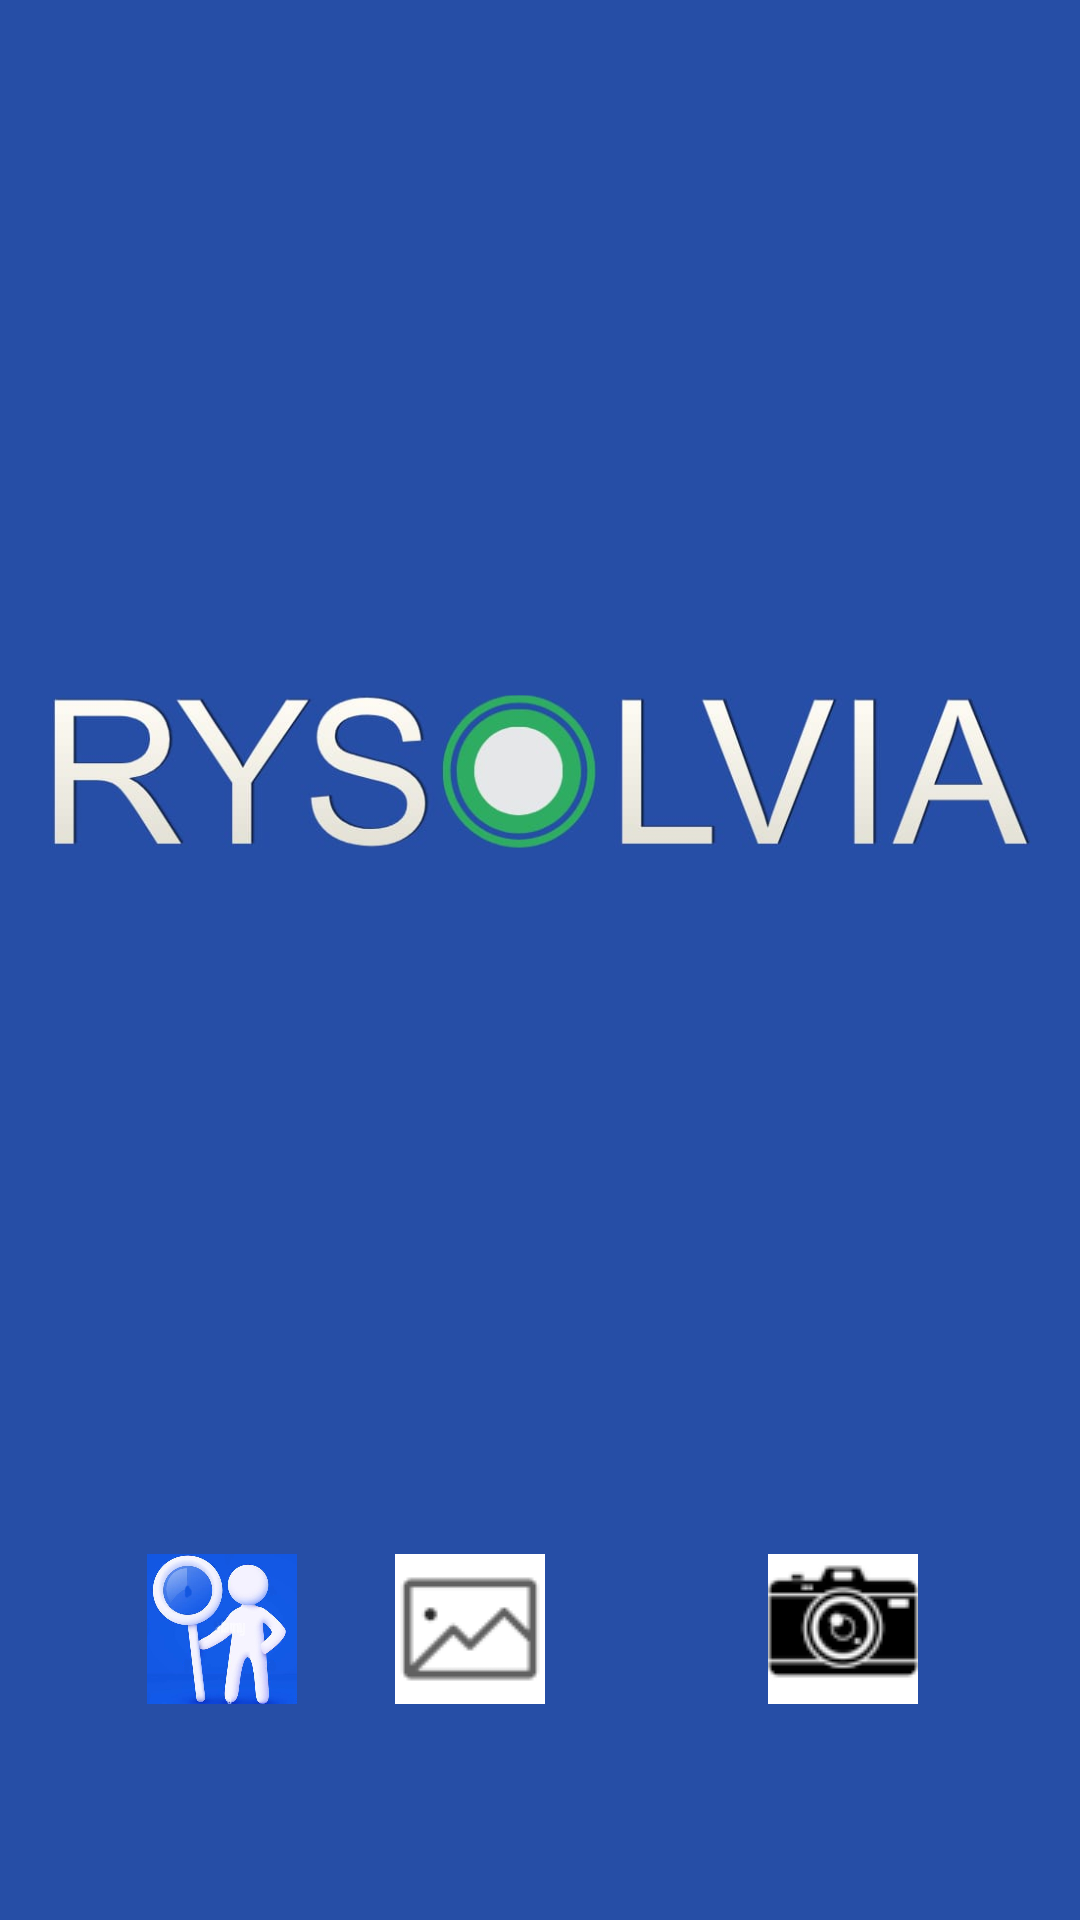

Screen size 1080 × 1920. Icon name, then its box in pixels as (x1, y1, x2, y2):
camera: (768, 1554, 918, 1704)
galleria: (395, 1554, 545, 1704)
